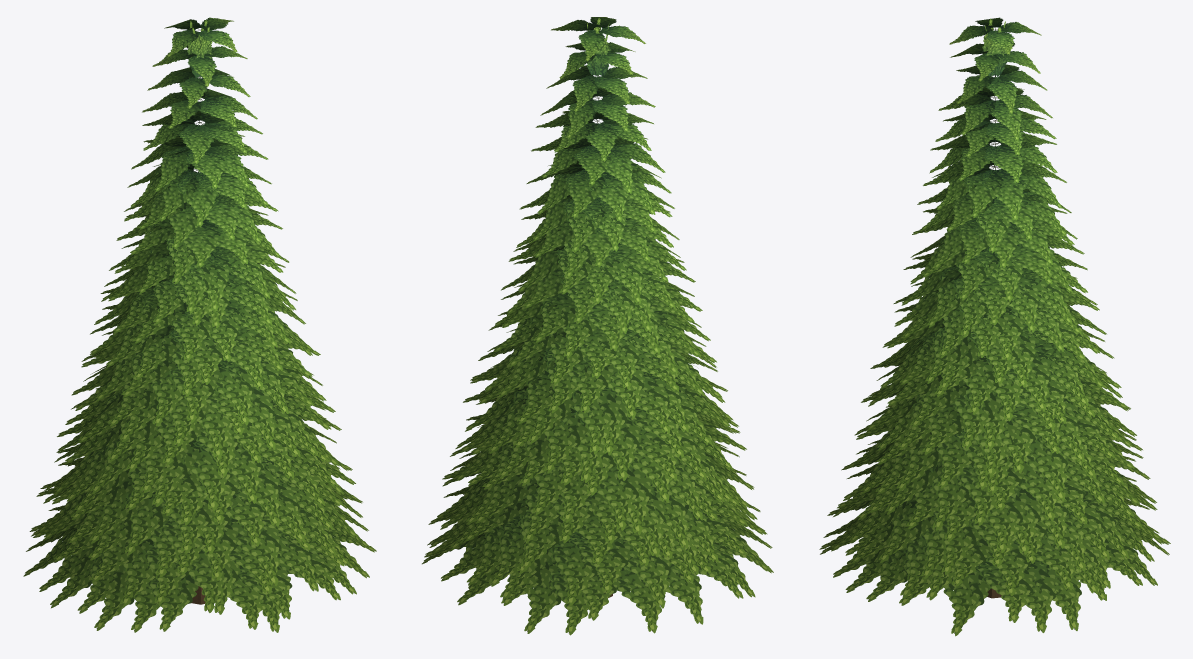
Rendered from fir3_a.glb.
3 renders of one model, left to right at view 1: azimuth 30°, elevation 25°; view 2: azimuth 150°, elevation 25°; view 3: azimuth 270°, elevation 25°, orthographic.
Parts seen in each view (by area): view 1: fir3_a; view 2: fir3_a; view 3: fir3_a.
Boxes of the visible parts, <box> form: fir3_a: <box>23,17,376,632</box>; fir3_a: <box>422,17,773,635</box>; fir3_a: <box>819,17,1170,636</box>.
Bounding box in the file's own units: 3.96 × 6.81 × 3.97.
2 materials, 2 textured.
